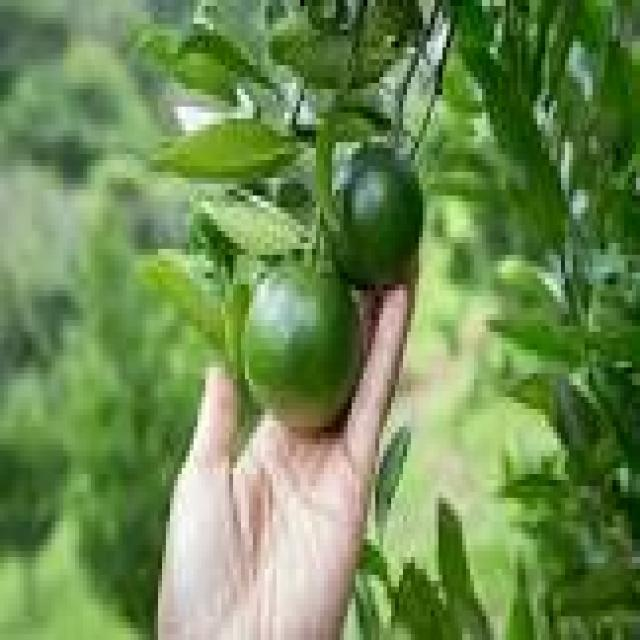orange: (241, 261, 360, 427), (332, 142, 419, 284)
